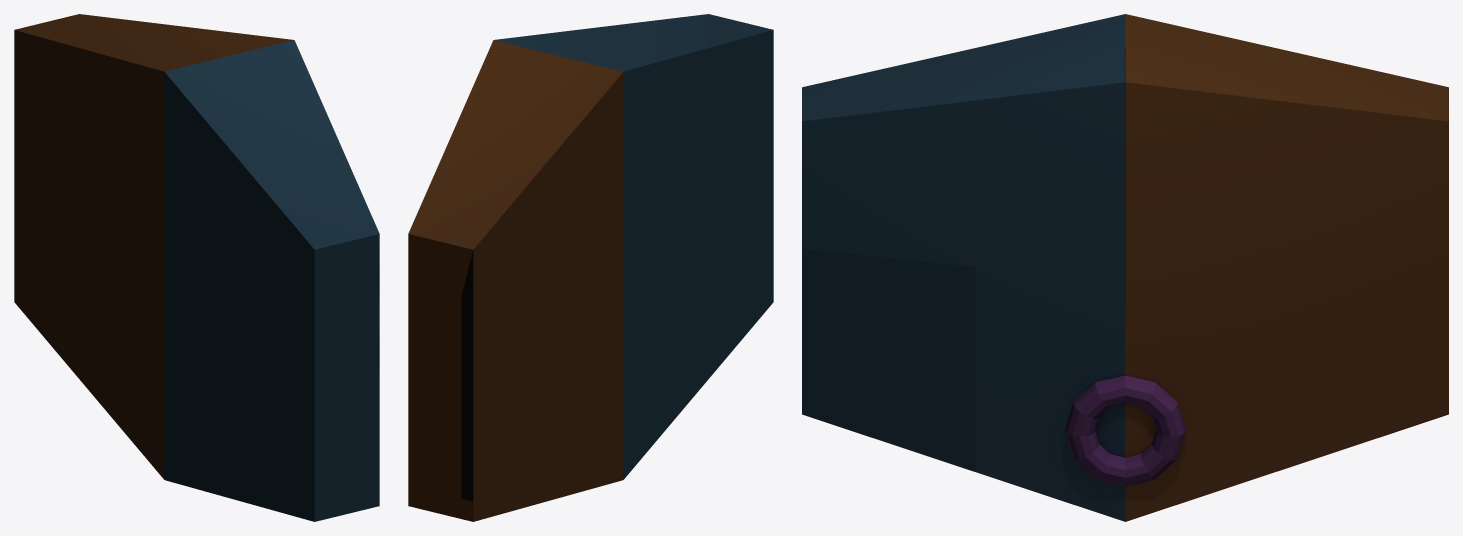
Rendered from makingtut.obj.
The picture shows the model from 3 angles, left to right: view 1: azimuth 30°, elevation 25°; view 2: azimuth 150°, elevation 25°; view 3: azimuth 270°, elevation 25°; orthographic projection. The views are drawn at different scales.
Parts seen in each view (by area): view 1: Object.2, Object.3; view 2: Object.3, Object.2; view 3: Object.3, Object.2, Object.1.
Part boxes in pixels (x1,y1,x2,y2): Object.2: (164, 40, 379, 521); Object.3: (14, 14, 293, 479); Object.3: (408, 40, 623, 521); Object.2: (494, 14, 773, 479); Object.3: (1125, 14, 1448, 521); Object.2: (802, 14, 1125, 521); Object.1: (1065, 375, 1185, 486).
Size of the model in its own units: 0.9742 by 2.67 by 3.56.
Materials: 3 (3 with a texture image).
